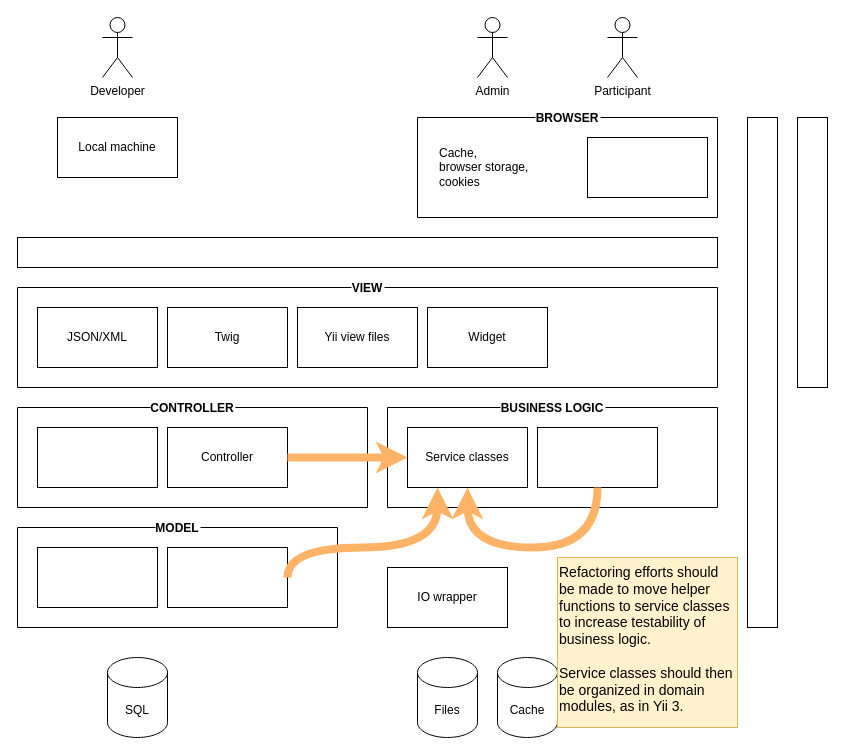
The diagram is 845 pixels wide and 755 high, and some of its shapes have lost their labels. The shapes that lost their labels are listed below. From the top down, each one's centre as x and y in pixels, then its label:
At (x=647, y=167): "JavaScript".
At (x=367, y=252): "Http Request".
At (x=812, y=252): "Vue".
At (x=762, y=372): "Yii".
At (x=97, y=457): "Remote API".
At (x=597, y=457): "Helper functions".
At (x=97, y=577): "Repository".
At (x=227, y=577): "ActiveRecord".
